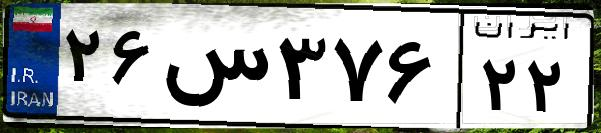2: (57, 26, 110, 100), (475, 38, 525, 113), (525, 38, 570, 115)
3: (270, 28, 330, 110)
6: (385, 28, 445, 110), (110, 28, 158, 98)
7: (330, 28, 385, 110)
س: (158, 20, 270, 120)
